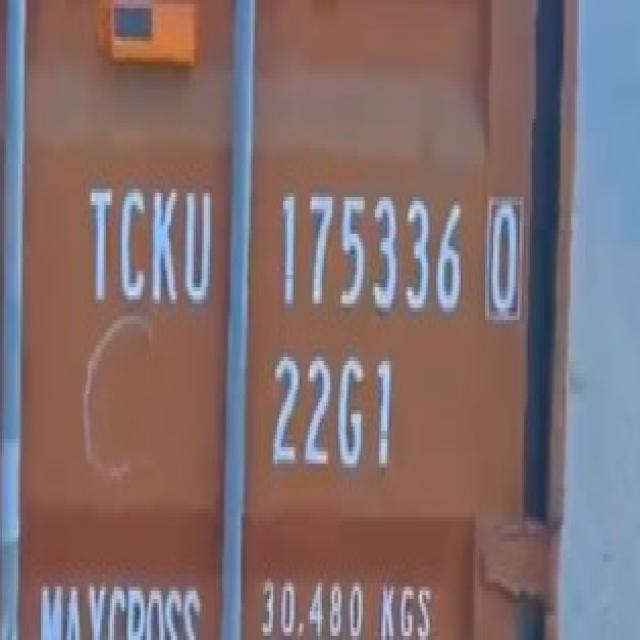dv: (479, 185, 525, 326)
owner: (82, 178, 216, 313)
serial: (273, 178, 465, 330)
size: (266, 348, 397, 484)
